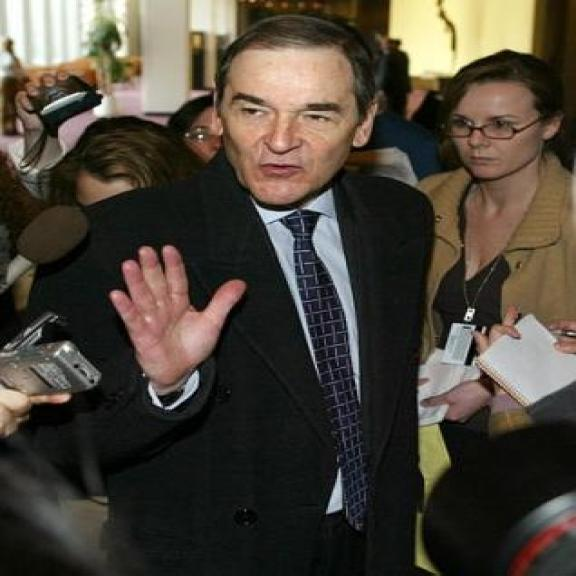face: (223, 56, 382, 208), (435, 82, 568, 182)
